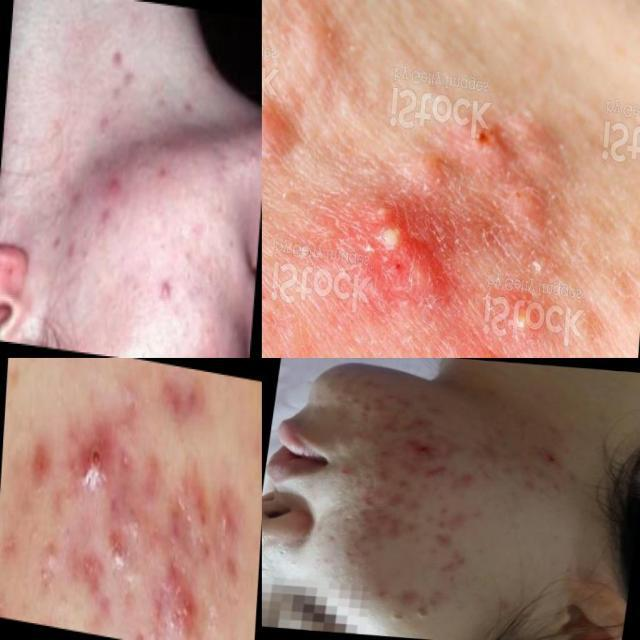Pimples: (350, 176, 458, 320), (504, 106, 570, 237), (486, 272, 558, 352), (452, 88, 503, 174), (163, 580, 210, 640), (346, 504, 412, 544), (77, 434, 111, 508), (100, 148, 133, 214), (70, 235, 111, 280), (28, 436, 50, 504), (461, 334, 521, 358), (153, 264, 179, 312), (407, 438, 441, 465), (440, 549, 474, 575), (449, 469, 479, 494), (404, 415, 442, 431), (382, 394, 416, 410), (357, 395, 385, 413), (370, 466, 394, 484), (428, 460, 458, 474), (432, 532, 458, 544), (348, 429, 368, 442), (334, 466, 352, 478), (394, 478, 410, 490)
